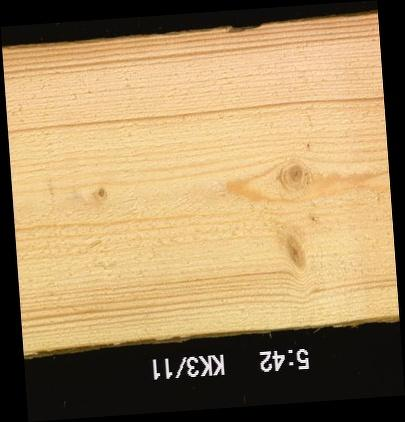small_knot: (95, 185, 106, 199)
sound_knot: (283, 160, 307, 190)
wave: (286, 320, 398, 328)
